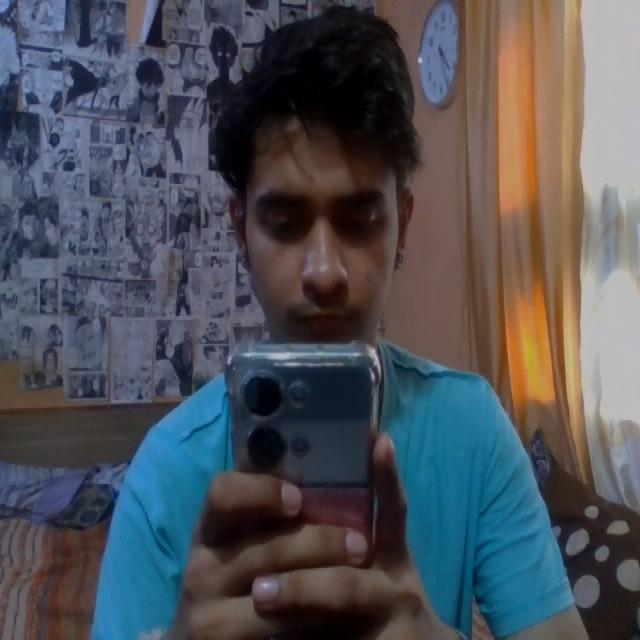phone: (223, 346, 380, 562)
using-phone: (83, 9, 598, 640)
